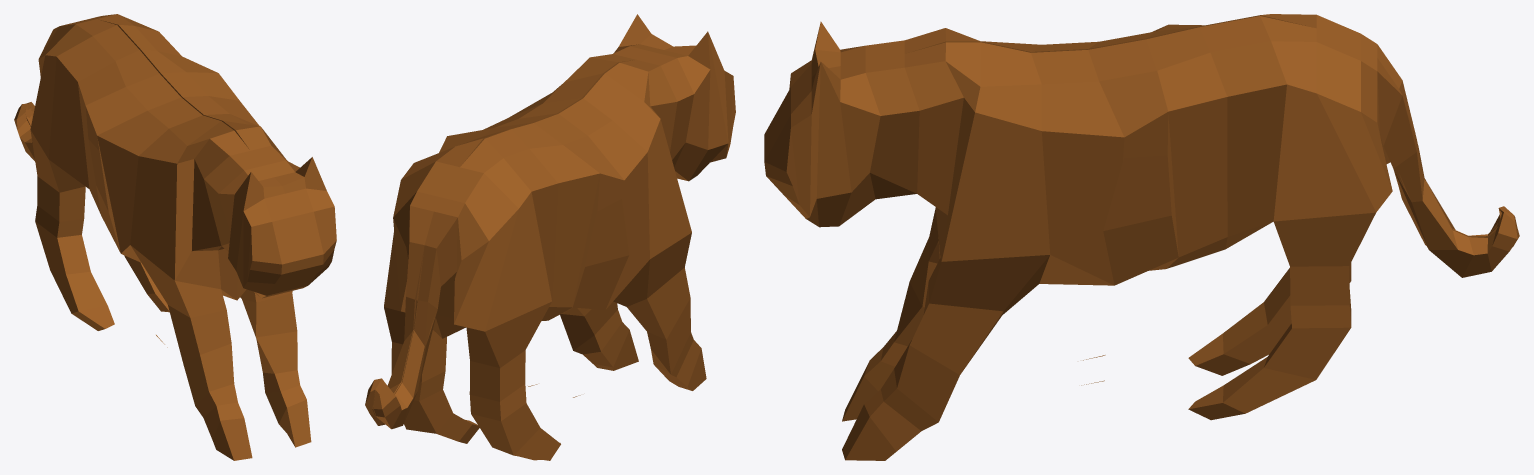
The model's file is 3DTiger-140810160026.fbx.
3 renders of one model, left to right at view 1: azimuth 30°, elevation 25°; view 2: azimuth 150°, elevation 25°; view 3: azimuth 270°, elevation 25°, orthographic. The views are drawn at different scales.
Visible parts, largest first — view 1: Plane; view 2: Plane; view 3: Plane.
Boxes of the visible parts, bbox=[...] form: Plane: bbox=[14, 14, 336, 460]; Plane: bbox=[365, 14, 735, 460]; Plane: bbox=[764, 14, 1519, 460].
Bounding box in the file's own units: 294 × 617 × 1005.
